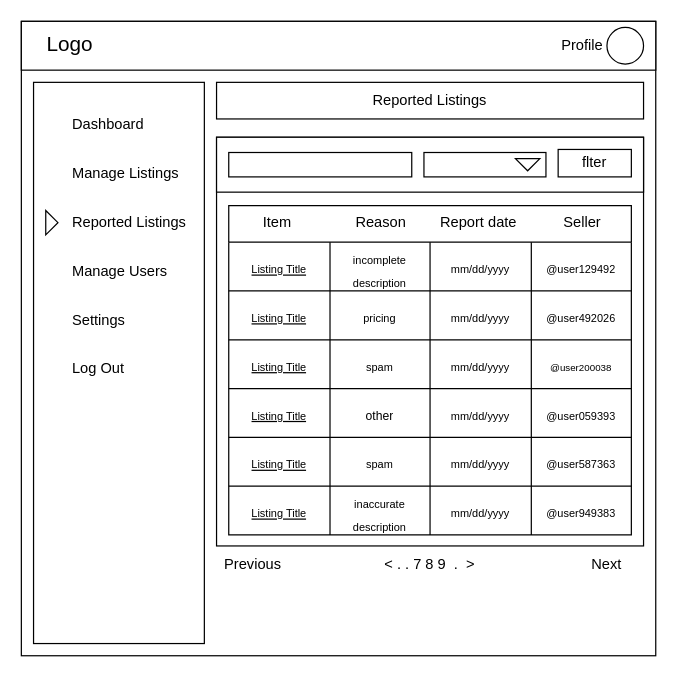
The diagram is 677 pixels wide and 677 high, and some of its shapes have lost their labels. Here are the shapes that lost their labels. From the top down, the centre of each, then its label:
[320,164]: Search
[484,164]: Status
